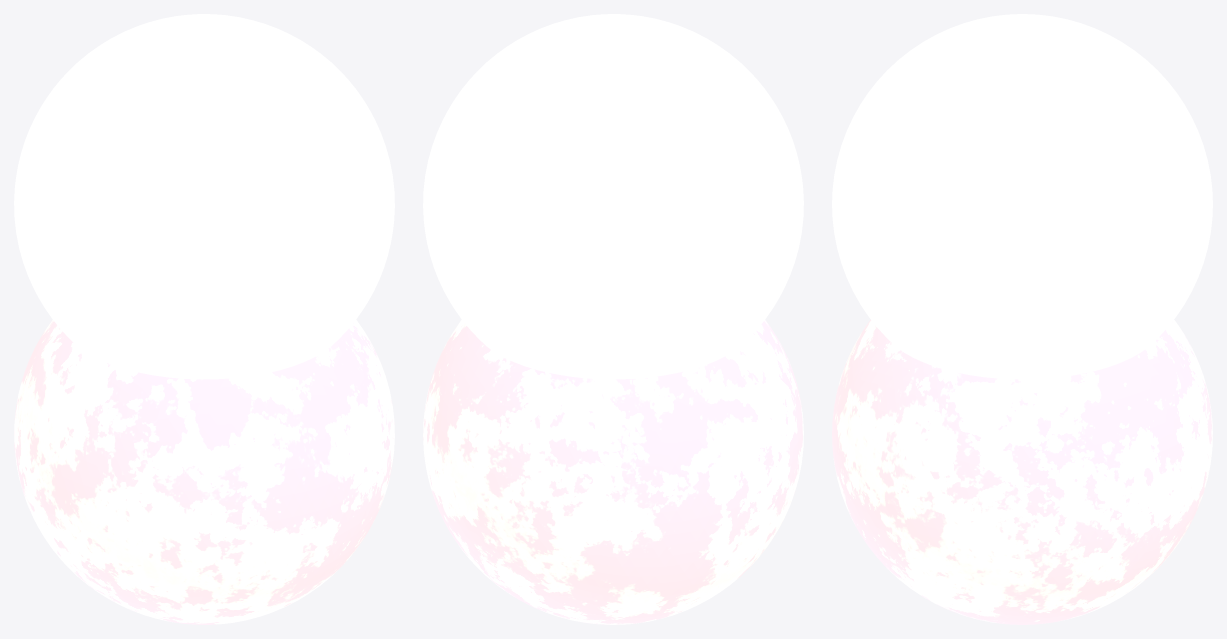
File: star.glb
The picture shows the model from 3 angles, left to right: view 1: azimuth 30°, elevation 25°; view 2: azimuth 150°, elevation 25°; view 3: azimuth 270°, elevation 25°; orthographic projection.
Parts seen in each view (by area): view 1: Planet, Sphere; view 2: Planet, Sphere; view 3: Planet, Sphere.
Part boxes in pixels (x1,y1,x2,y2): Planet: [14, 14, 394, 379]; Sphere: [14, 319, 394, 624]; Planet: [423, 14, 803, 379]; Sphere: [423, 319, 803, 624]; Planet: [832, 14, 1212, 379]; Sphere: [832, 320, 1212, 624].
Size of the model in its own units: 6 by 10 by 6.
2 materials, 1 textured.
